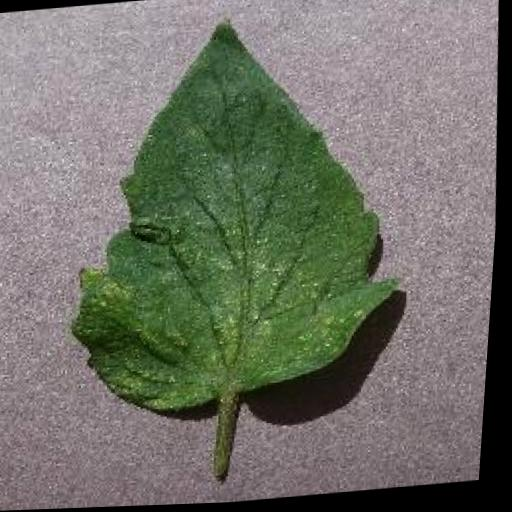Spider Mites: (58, 9, 427, 422)
